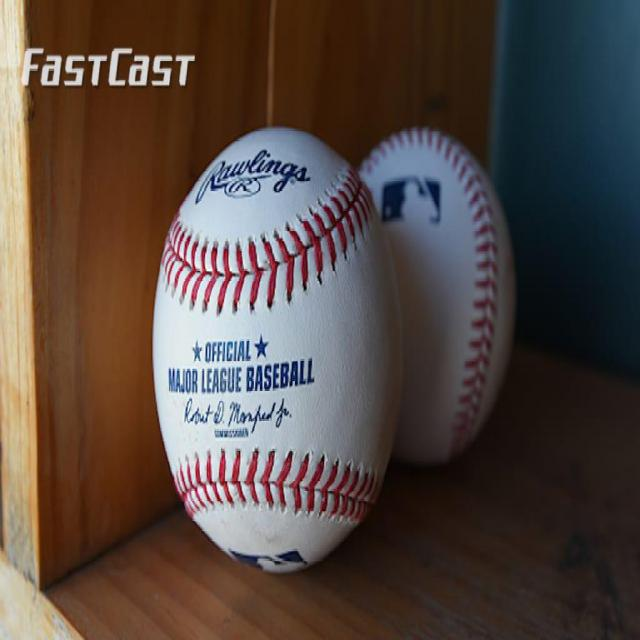baseball: (152, 130, 406, 576), (374, 124, 516, 457)
